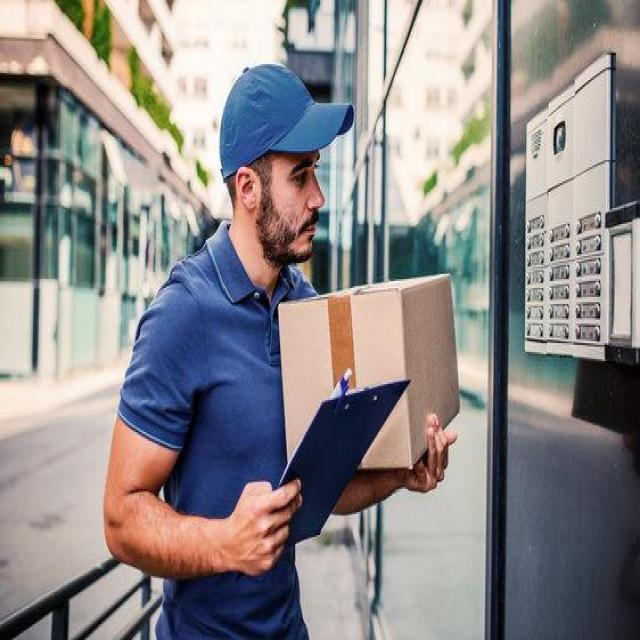box: (276, 274, 463, 470)
